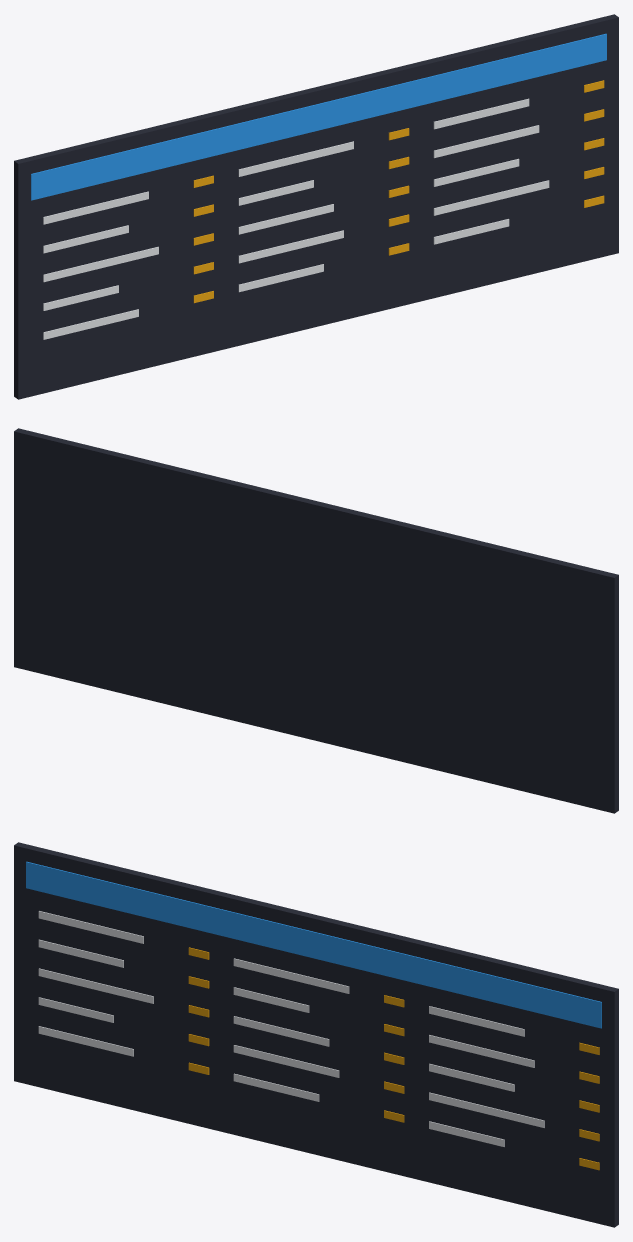
File: sch-045.glb
The picture shows the model from 3 angles, top to bottom: view 1: azimuth 30°, elevation 25°; view 2: azimuth 150°, elevation 25°; view 3: azimuth 330°, elevation 25°; orthographic projection.
Parts seen in each view (by area): view 1: plastic_dark, plastic_blue, white, accent_amber; view 2: plastic_dark; view 3: plastic_dark, plastic_blue, white, accent_amber.
Boxes of the visible parts, bbox=[...] form: plastic_dark: bbox=[14, 14, 618, 399]; plastic_blue: bbox=[31, 33, 606, 200]; white: bbox=[43, 98, 549, 339]; accent_amber: bbox=[193, 80, 604, 303]; plastic_dark: bbox=[14, 428, 618, 813]; plastic_dark: bbox=[14, 842, 618, 1227]; plastic_blue: bbox=[26, 861, 601, 1028]; white: bbox=[38, 911, 544, 1146]; accent_amber: bbox=[188, 947, 599, 1170].
Bounding box in the file's own units: 2.4 × 0.9 × 0.034.
